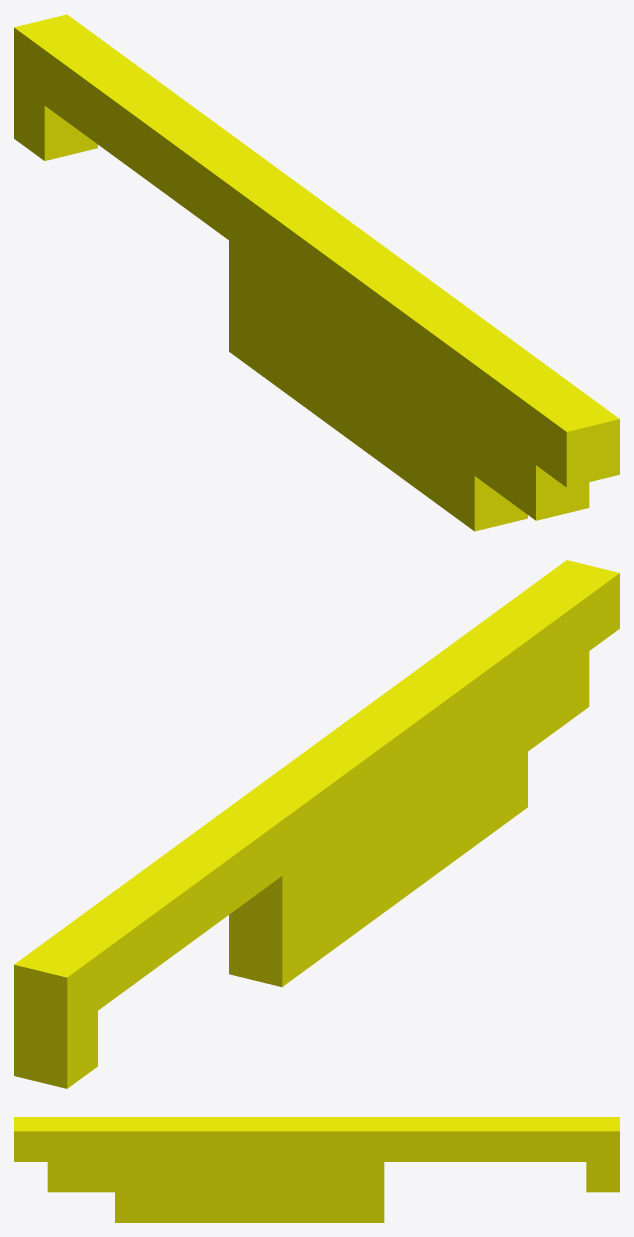
The model's file is voxel-village-butcher-knife.glb.
3 views of the same model, one above another, from view 1: azimuth 30°, elevation 25°; view 2: azimuth 150°, elevation 25°; view 3: azimuth 270°, elevation 25° (orthographic). The views are drawn at different scales.
Parts seen in each view (by area): view 1: VS_Villagers_Butcher_Knife; view 2: VS_Villagers_Butcher_Knife; view 3: VS_Villagers_Butcher_Knife.
Boxes of the visible parts, left/top/right/bottom form: VS_Villagers_Butcher_Knife: left=14, top=14, right=619, bottom=531; VS_Villagers_Butcher_Knife: left=14, top=560, right=619, bottom=1088; VS_Villagers_Butcher_Knife: left=14, top=1117, right=619, bottom=1222.
Bounding box in the file's own units: 0.1 × 0.2999 × 1.8.
